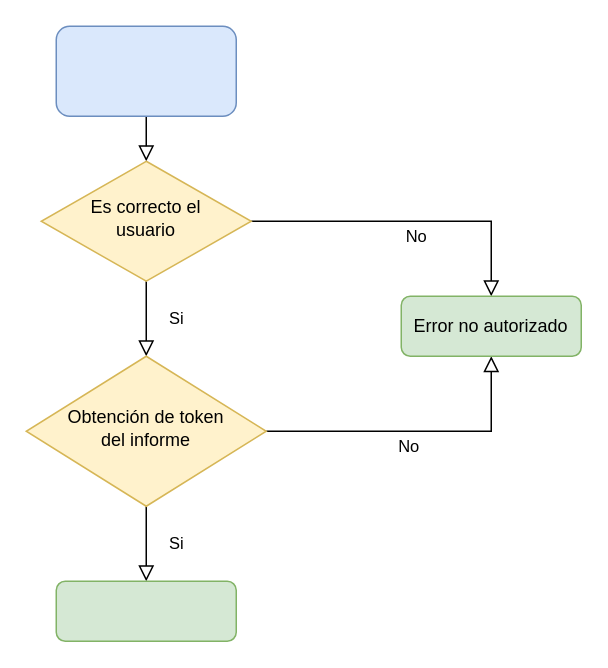
The diagram is 608 pixels wide and 668 high, and some of its shapes have lost their labels. Here are the shapes that lost their labels. From the top down, the centre of each, then its label:
At point (145, 70): "Cargar informe".
At point (145, 610): "Muestra el informe".
